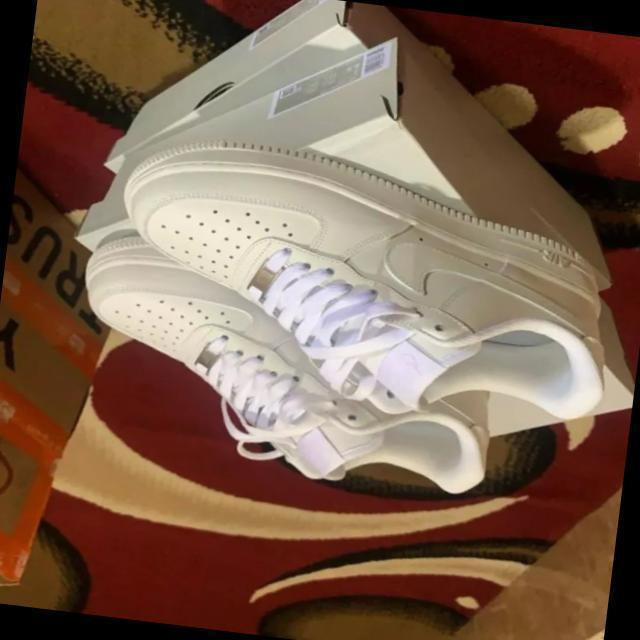nike original air force: (99, 122, 626, 438), (60, 230, 508, 500)
